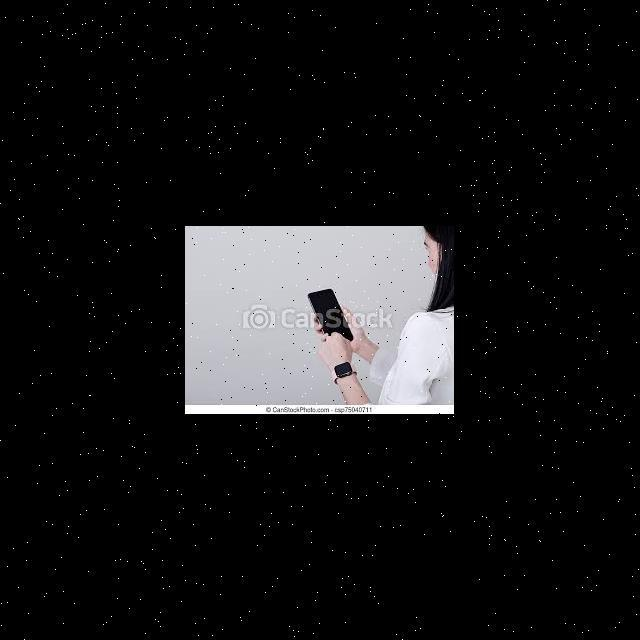smart phone: (302, 285, 368, 337)
watch: (330, 352, 365, 396)
